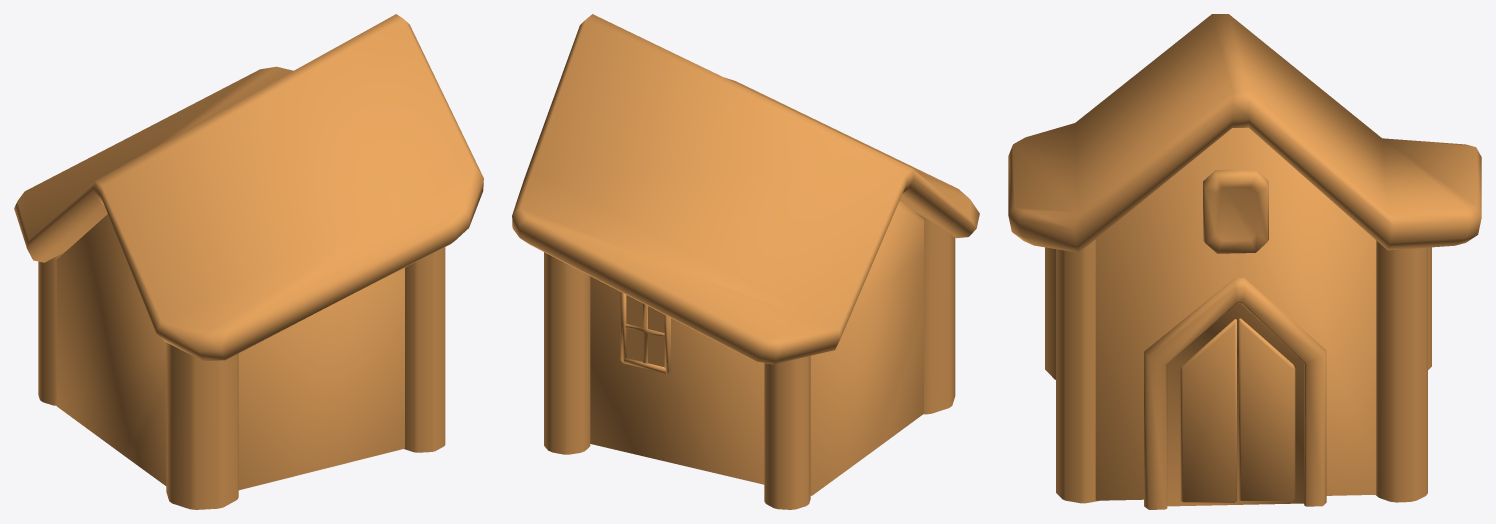
Rendered from farm_gbread.fbx.
3 views of the same model, side by side, from view 1: azimuth 30°, elevation 25°; view 2: azimuth 150°, elevation 25°; view 3: azimuth 270°, elevation 25° (orthographic). The views are drawn at different scales.
Parts seen in each view (by area): view 1: farm_gbread; view 2: farm_gbread; view 3: farm_gbread.
Boxes of the visible parts, bbox=[...] form: farm_gbread: bbox=[14, 14, 483, 509]; farm_gbread: bbox=[512, 14, 979, 509]; farm_gbread: bbox=[1008, 14, 1481, 509].
Size of the model in its own units: 1595 by 1704 by 1711.
